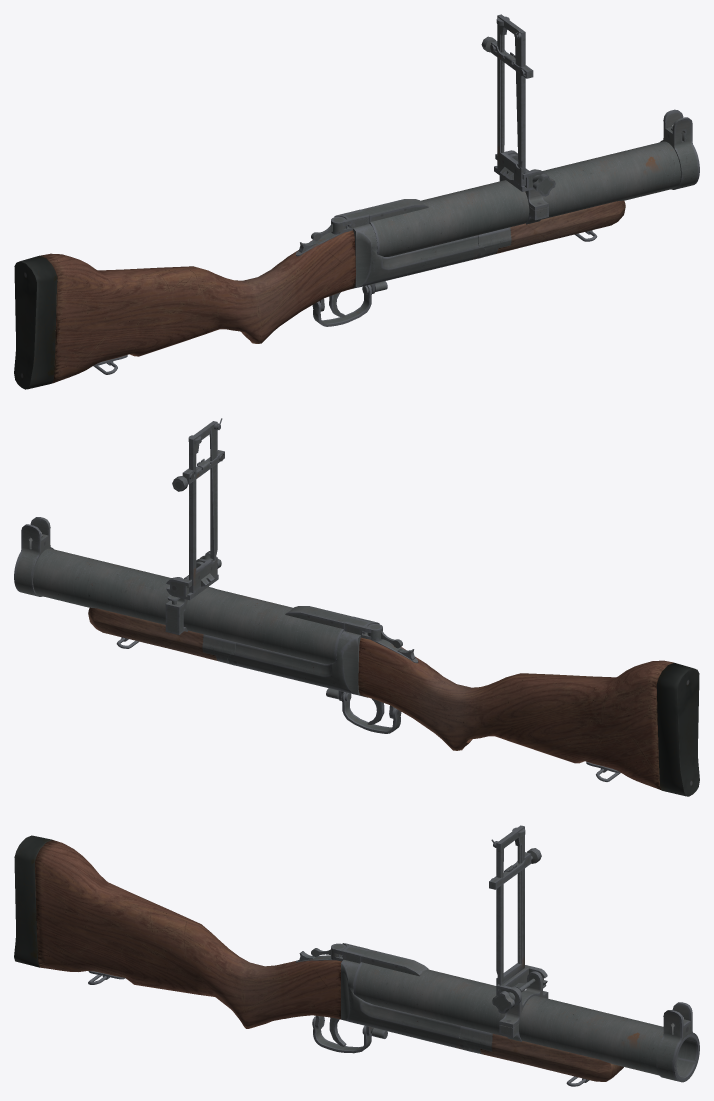
File: m79_grenade_launcher.glb
The picture shows the model from 3 angles, top to bottom: view 1: azimuth 30°, elevation 25°; view 2: azimuth 150°, elevation 25°; view 3: azimuth 330°, elevation 25°; orthographic projection.
Visible parts, largest first — view 1: 0019_0013_0024_Cube:008.001, barrel_lock_opticsF, back, base, 0018_0024_0031_Cube:010, optics_big, optics_pad, round_bot, optics_holder; view 2: 0019_0013_0024_Cube:008.001, barrel_lock_opticsF, back, base, 0018_0024_0031_Cube:010, optics_big, optics_pad, optics_holder, round_bot, optics_holder_top; view 3: 0019_0013_0024_Cube:008.001, barrel_lock_opticsF, 0018_0024_0031_Cube:010, base, back, optics_big, optics_holder, barrel_lock_opticsF_edit, optics_holder_top, round_bot, optics_cube, optics_cylinder (+1 smaller).
Part boxes in pixels (x1,y1,x2,y2): 0019_0013_0024_Cube:008.001: (40, 230, 355, 383); barrel_lock_opticsF: (342, 109, 699, 256); back: (14, 255, 57, 389); base: (348, 224, 485, 288); 0018_0024_0031_Cube:010: (478, 200, 625, 258); optics_big: (497, 14, 525, 186); optics_pad: (514, 28, 522, 167); round_bot: (312, 285, 371, 326); optics_holder: (499, 154, 548, 224); 0019_0013_0024_Cube:008.001: (358, 637, 673, 789); barrel_lock_opticsF: (14, 517, 371, 663); back: (656, 662, 699, 796); base: (228, 631, 366, 695); 0018_0024_0031_Cube:010: (88, 607, 235, 665); optics_big: (189, 421, 217, 592); optics_pad: (209, 421, 217, 560); optics_holder: (165, 561, 214, 634); round_bot: (342, 692, 401, 733); optics_holder_top: (166, 558, 218, 600); 0019_0013_0024_Cube:008.001: (35, 840, 341, 1028); barrel_lock_opticsF: (342, 945, 699, 1082); 0018_0024_0031_Cube:010: (459, 1026, 623, 1081); base: (341, 960, 468, 1050); back: (14, 835, 52, 967); optics_big: (496, 825, 524, 995); optics_holder: (499, 971, 548, 1041); barrel_lock_opticsF_edit: (675, 1034, 699, 1080); optics_holder_top: (497, 965, 547, 1005); round_bot: (312, 1016, 371, 1053); optics_cube: (490, 852, 531, 889); optics_cylinder: (518, 846, 521, 963).
Size of the model in its own units: 474 by 177 by 56.6.
Materials: 1 (1 with a texture image).
